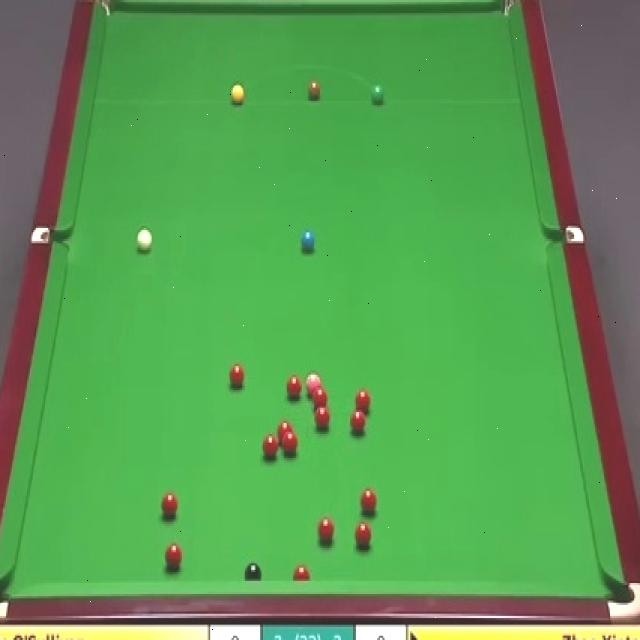black-ball: (245, 563, 263, 580)
blue-ball: (300, 231, 316, 250)
brown-ball: (308, 81, 321, 100)
green-ball: (370, 82, 386, 105)
pink-ball: (306, 372, 321, 395)
red-ball: (359, 489, 378, 516), (314, 406, 333, 432), (228, 360, 246, 386), (355, 522, 372, 549), (160, 492, 179, 516), (317, 517, 335, 542), (283, 377, 303, 399), (262, 433, 278, 460), (165, 545, 182, 570), (350, 409, 367, 434), (356, 388, 370, 412), (283, 431, 298, 453), (312, 386, 328, 406), (278, 422, 292, 442), (292, 565, 312, 579)
white-ball: (136, 230, 153, 250)
yellow-ball: (231, 83, 244, 106)
